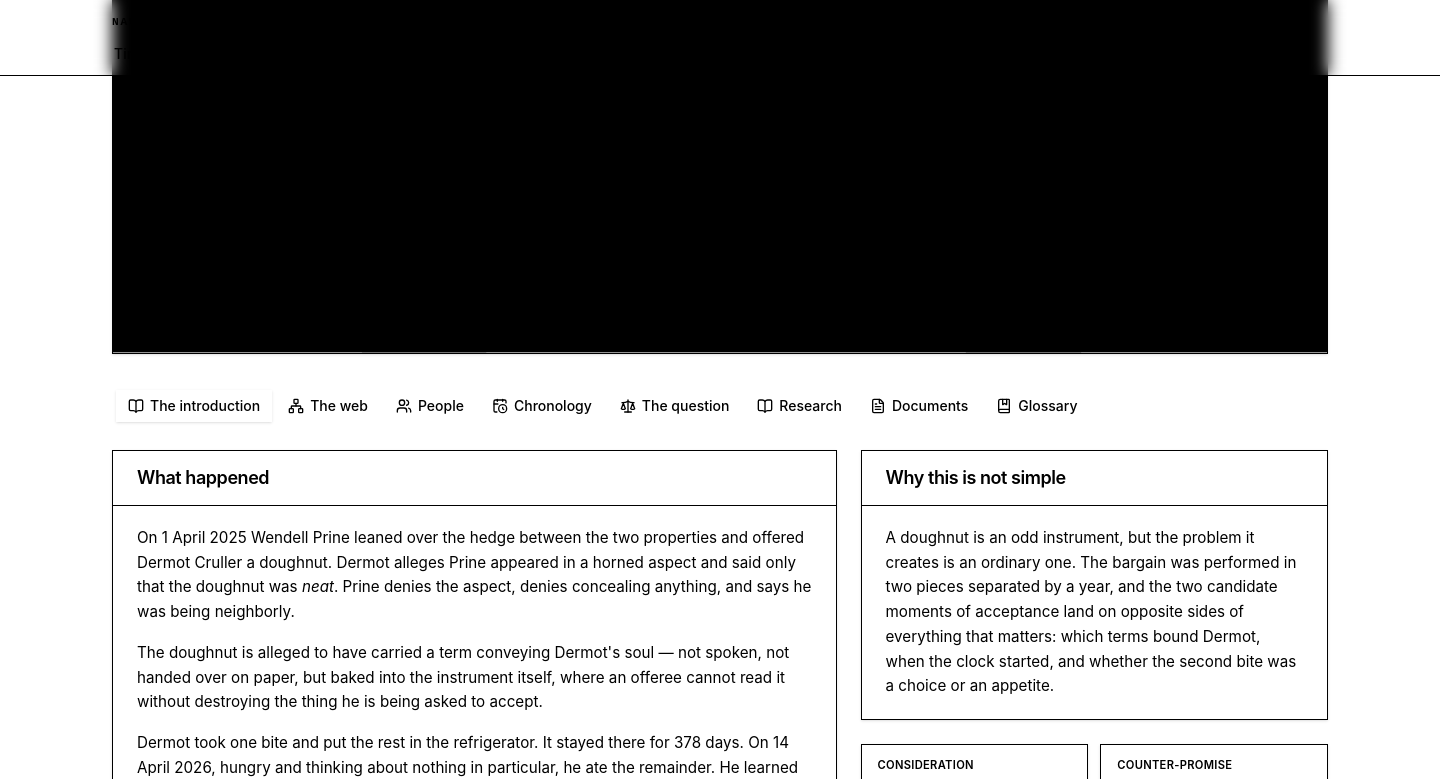
Scenario: the introduction to Count II › says on the face of the research tab that the authorities are real
(page scrolled)
Click the tab "Research": (800, 406) 745,390 -> 854,422
(page scrolled)
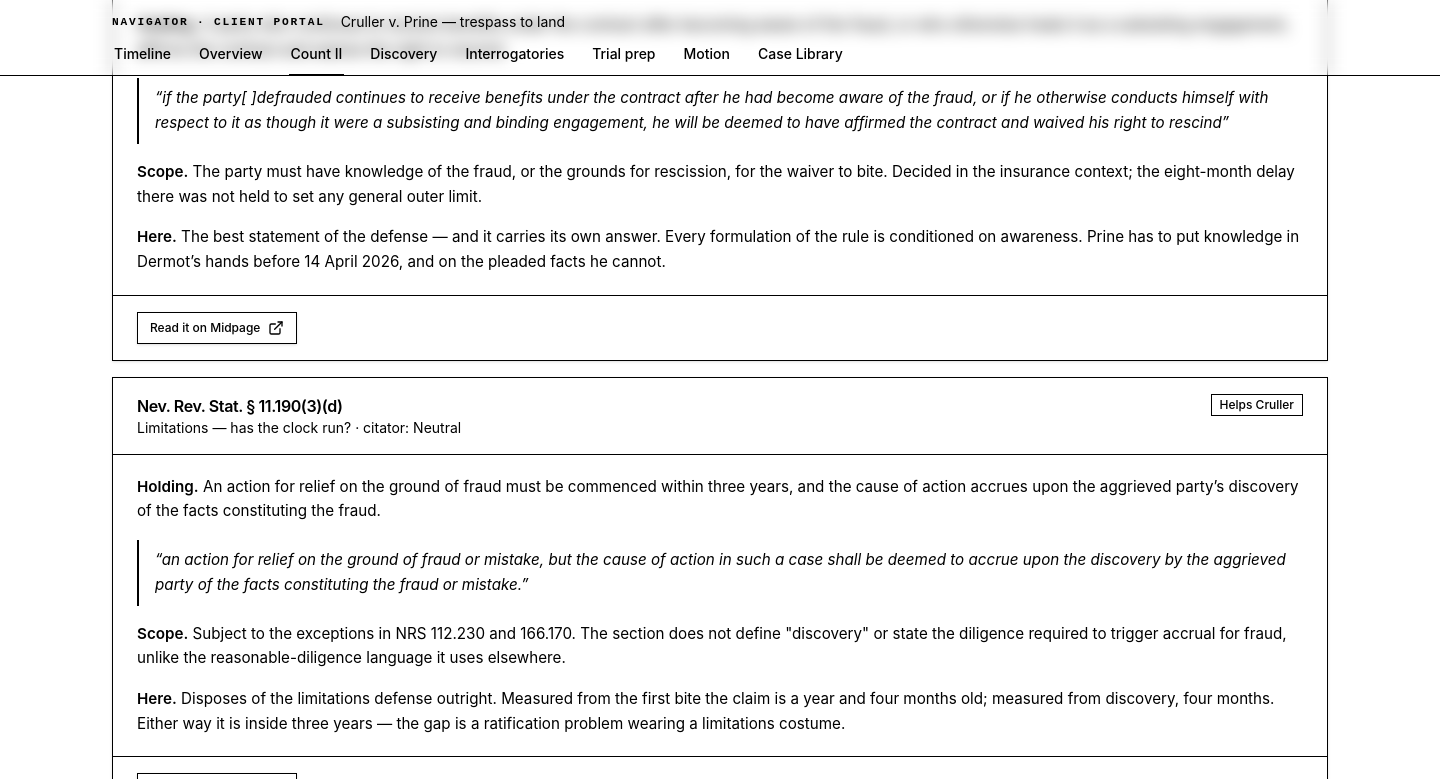
Expected: the heading "Nev. Rev. Stat. § 11.190(3)(d)" is shown, 137,396 -> 343,416
